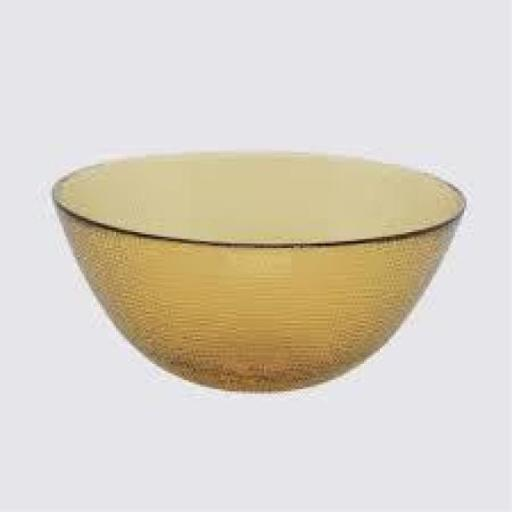glass: (42, 133, 476, 409)
